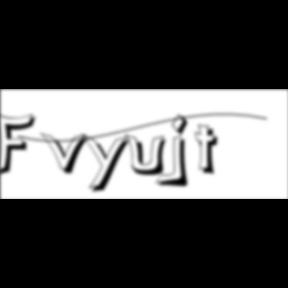F: (0, 110, 42, 178)
j: (168, 113, 196, 191)
t: (194, 124, 225, 179)
u: (126, 132, 174, 178)
v: (41, 131, 95, 177)
y: (82, 132, 136, 196)
